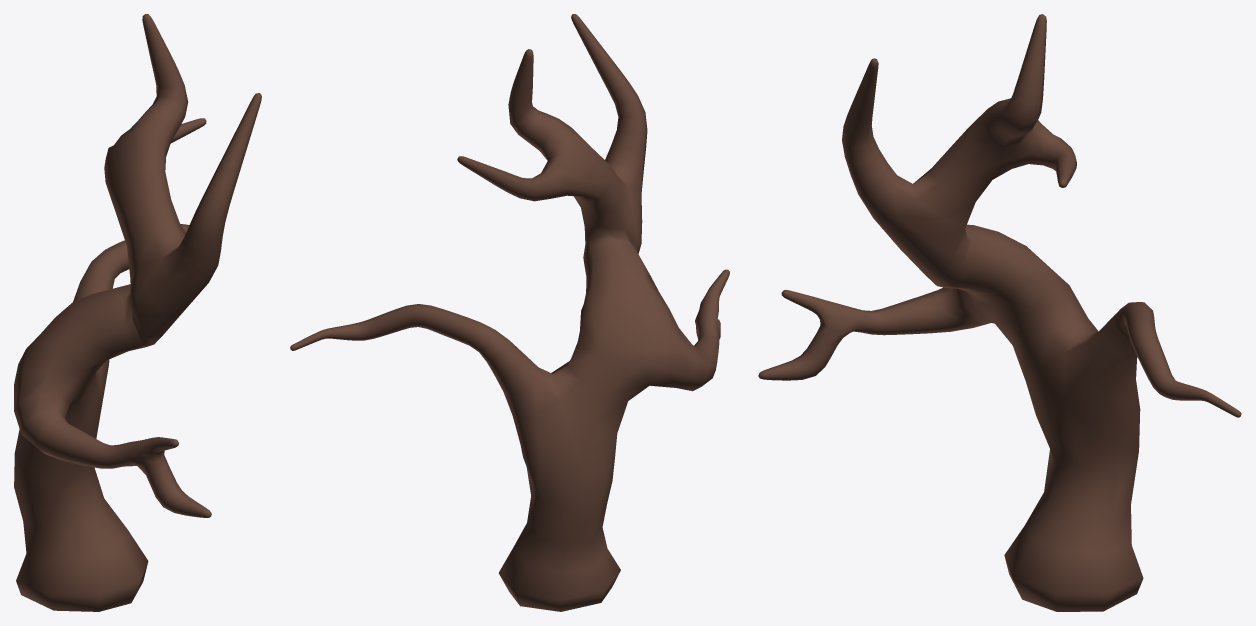
The model's file is arvore_seca_1.fbx.
3 renders of one model, left to right at view 1: azimuth 30°, elevation 25°; view 2: azimuth 150°, elevation 25°; view 3: azimuth 270°, elevation 25°, orthographic. The views are drawn at different scales.
Visible parts, largest first — view 1: arvore_seca_1; view 2: arvore_seca_1; view 3: arvore_seca_1.
Part boxes in pixels (x1=…): arvore_seca_1: x1=14, y1=14, x2=261, y2=611; arvore_seca_1: x1=290, y1=14, x2=729, y2=611; arvore_seca_1: x1=758, y1=14, x2=1241, y2=611.
Bounding box in the file's own units: 651 × 1094 × 792.
